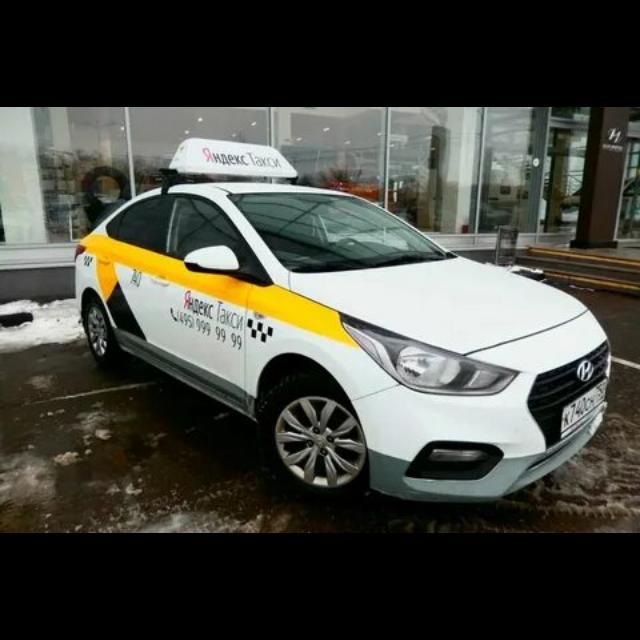taxi: (73, 138, 613, 507)
